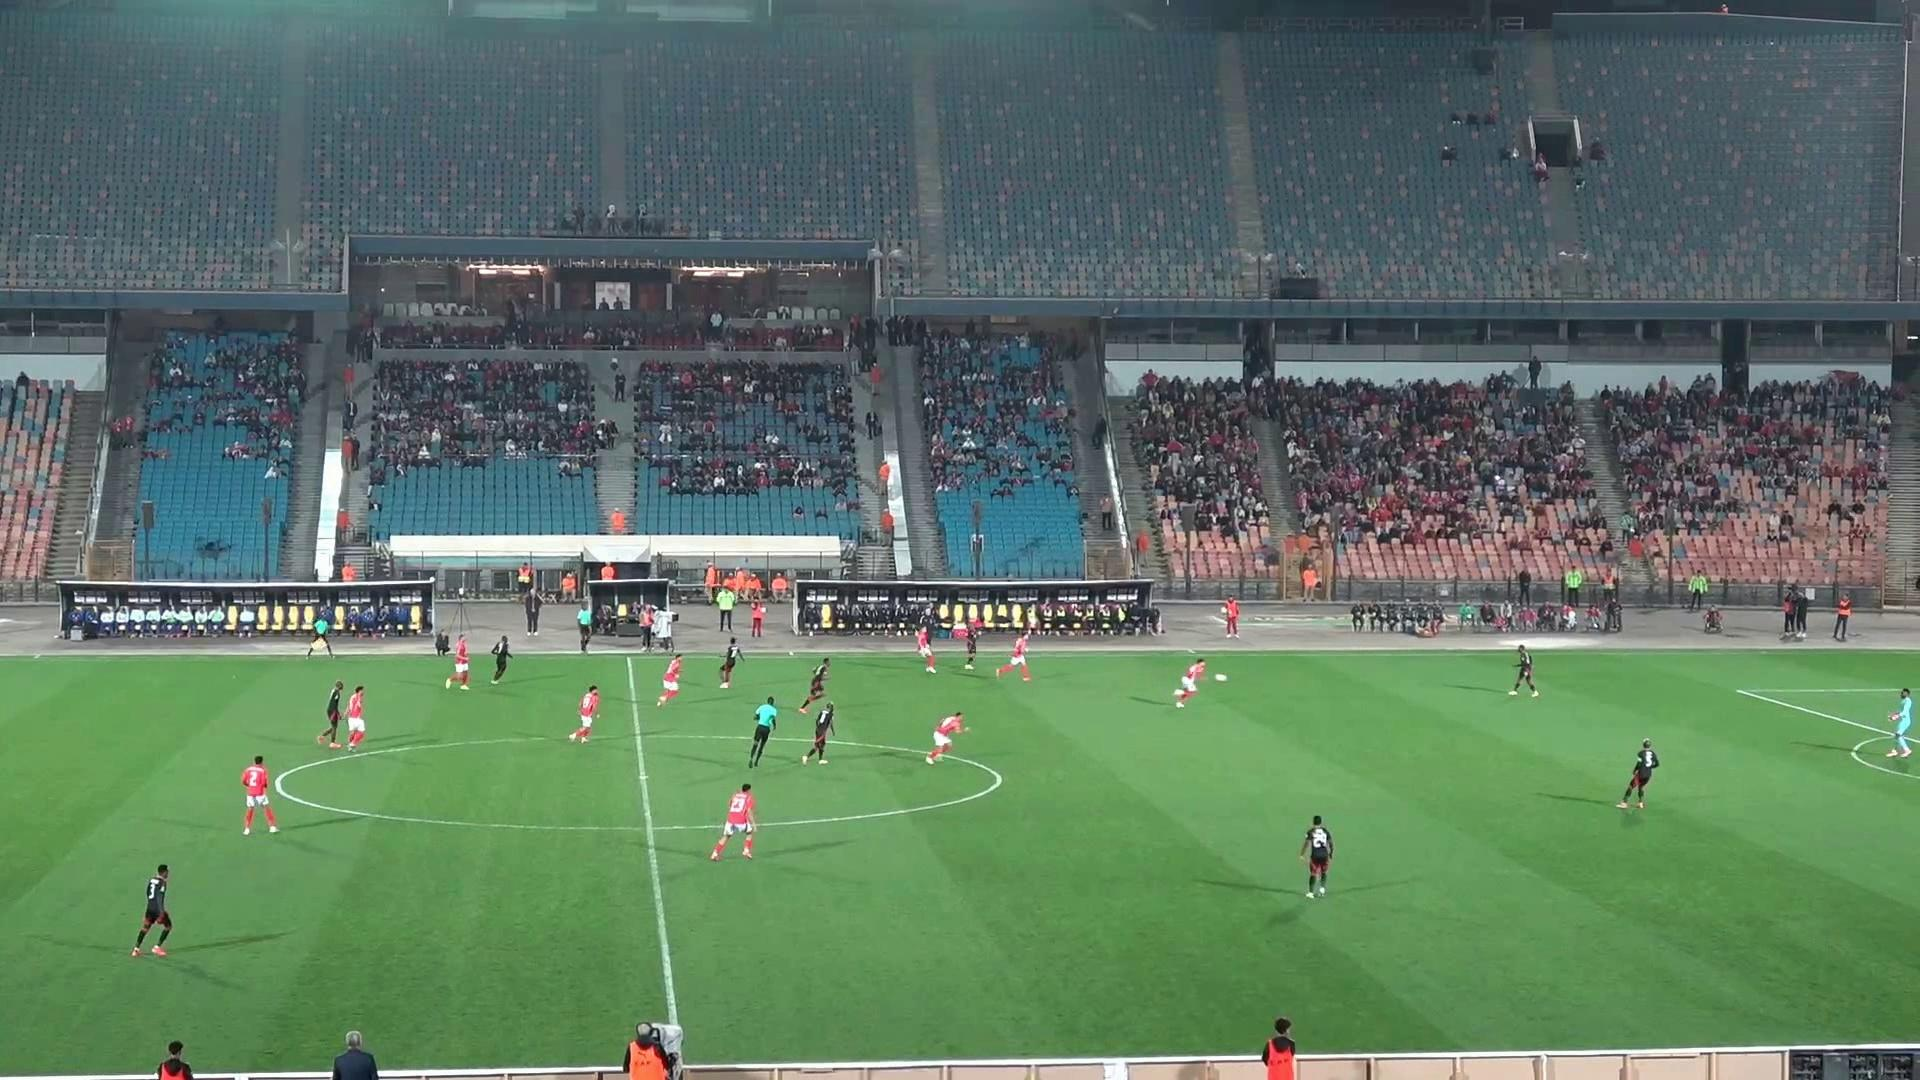Ball: (1215, 673, 1226, 680)
GK2: (1887, 688, 1913, 757)
Refree: (746, 696, 778, 767), (307, 615, 334, 655), (578, 603, 593, 651)
Team1: (709, 785, 756, 860), (241, 756, 277, 833), (924, 712, 965, 764), (568, 684, 601, 742), (997, 630, 1031, 680), (1174, 659, 1207, 707), (345, 684, 367, 749), (444, 634, 468, 688), (655, 655, 680, 705), (916, 626, 936, 673)
Team2: (131, 864, 171, 956), (1615, 738, 1659, 808), (1300, 816, 1333, 895), (800, 695, 835, 764), (316, 680, 348, 748), (798, 658, 831, 713), (1509, 645, 1539, 698), (717, 638, 742, 688), (956, 620, 978, 669), (491, 637, 512, 684)
